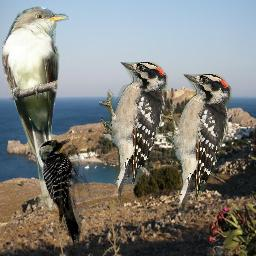Cuckoo: (2, 6, 69, 212)
Woodpecker: (161, 74, 233, 220), (99, 62, 169, 204), (38, 138, 91, 247)
